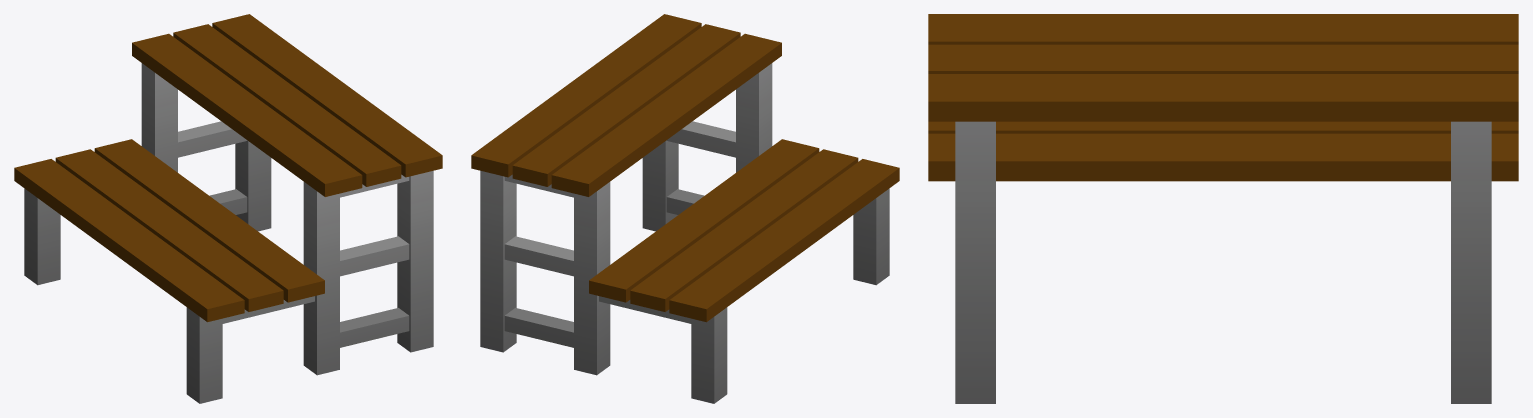
The model's file is Bench_1_D_2.glb.
The picture shows the model from 3 angles, left to right: view 1: azimuth 30°, elevation 25°; view 2: azimuth 150°, elevation 25°; view 3: azimuth 270°, elevation 25°; orthographic projection. The views are drawn at different scales.
Parts seen in each view (by area): view 1: Bench_1_D_2; view 2: Bench_1_D_2; view 3: Bench_1_D_2.
Part boxes in pixels (x1,y1,x2,y2): Bench_1_D_2: [14, 14, 442, 403]; Bench_1_D_2: [471, 14, 899, 403]; Bench_1_D_2: [928, 14, 1518, 403].
Size of the model in its own units: 0.8137 by 0.654 by 1.16.
2 materials, 2 textured.
